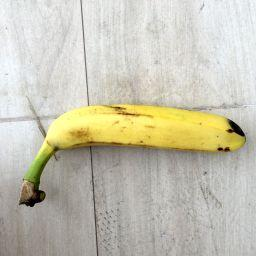Banana Ripe: (17, 100, 246, 214)
